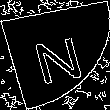N_N: (24, 26, 86, 84)
